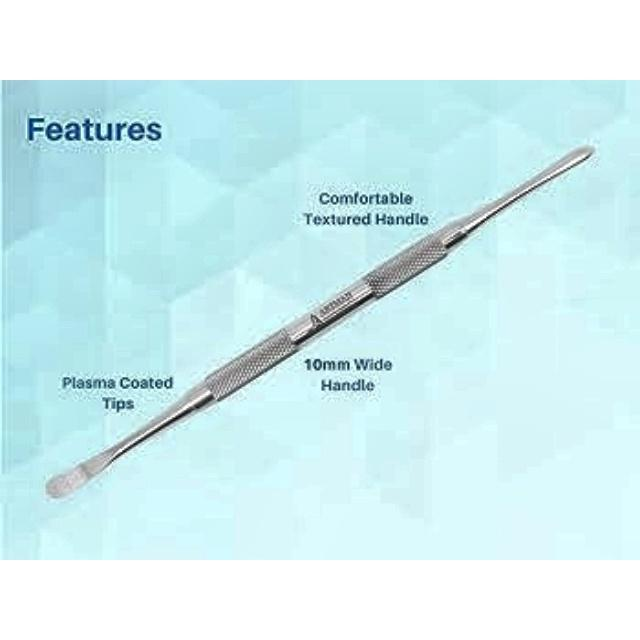elevador: (46, 145, 598, 502)
